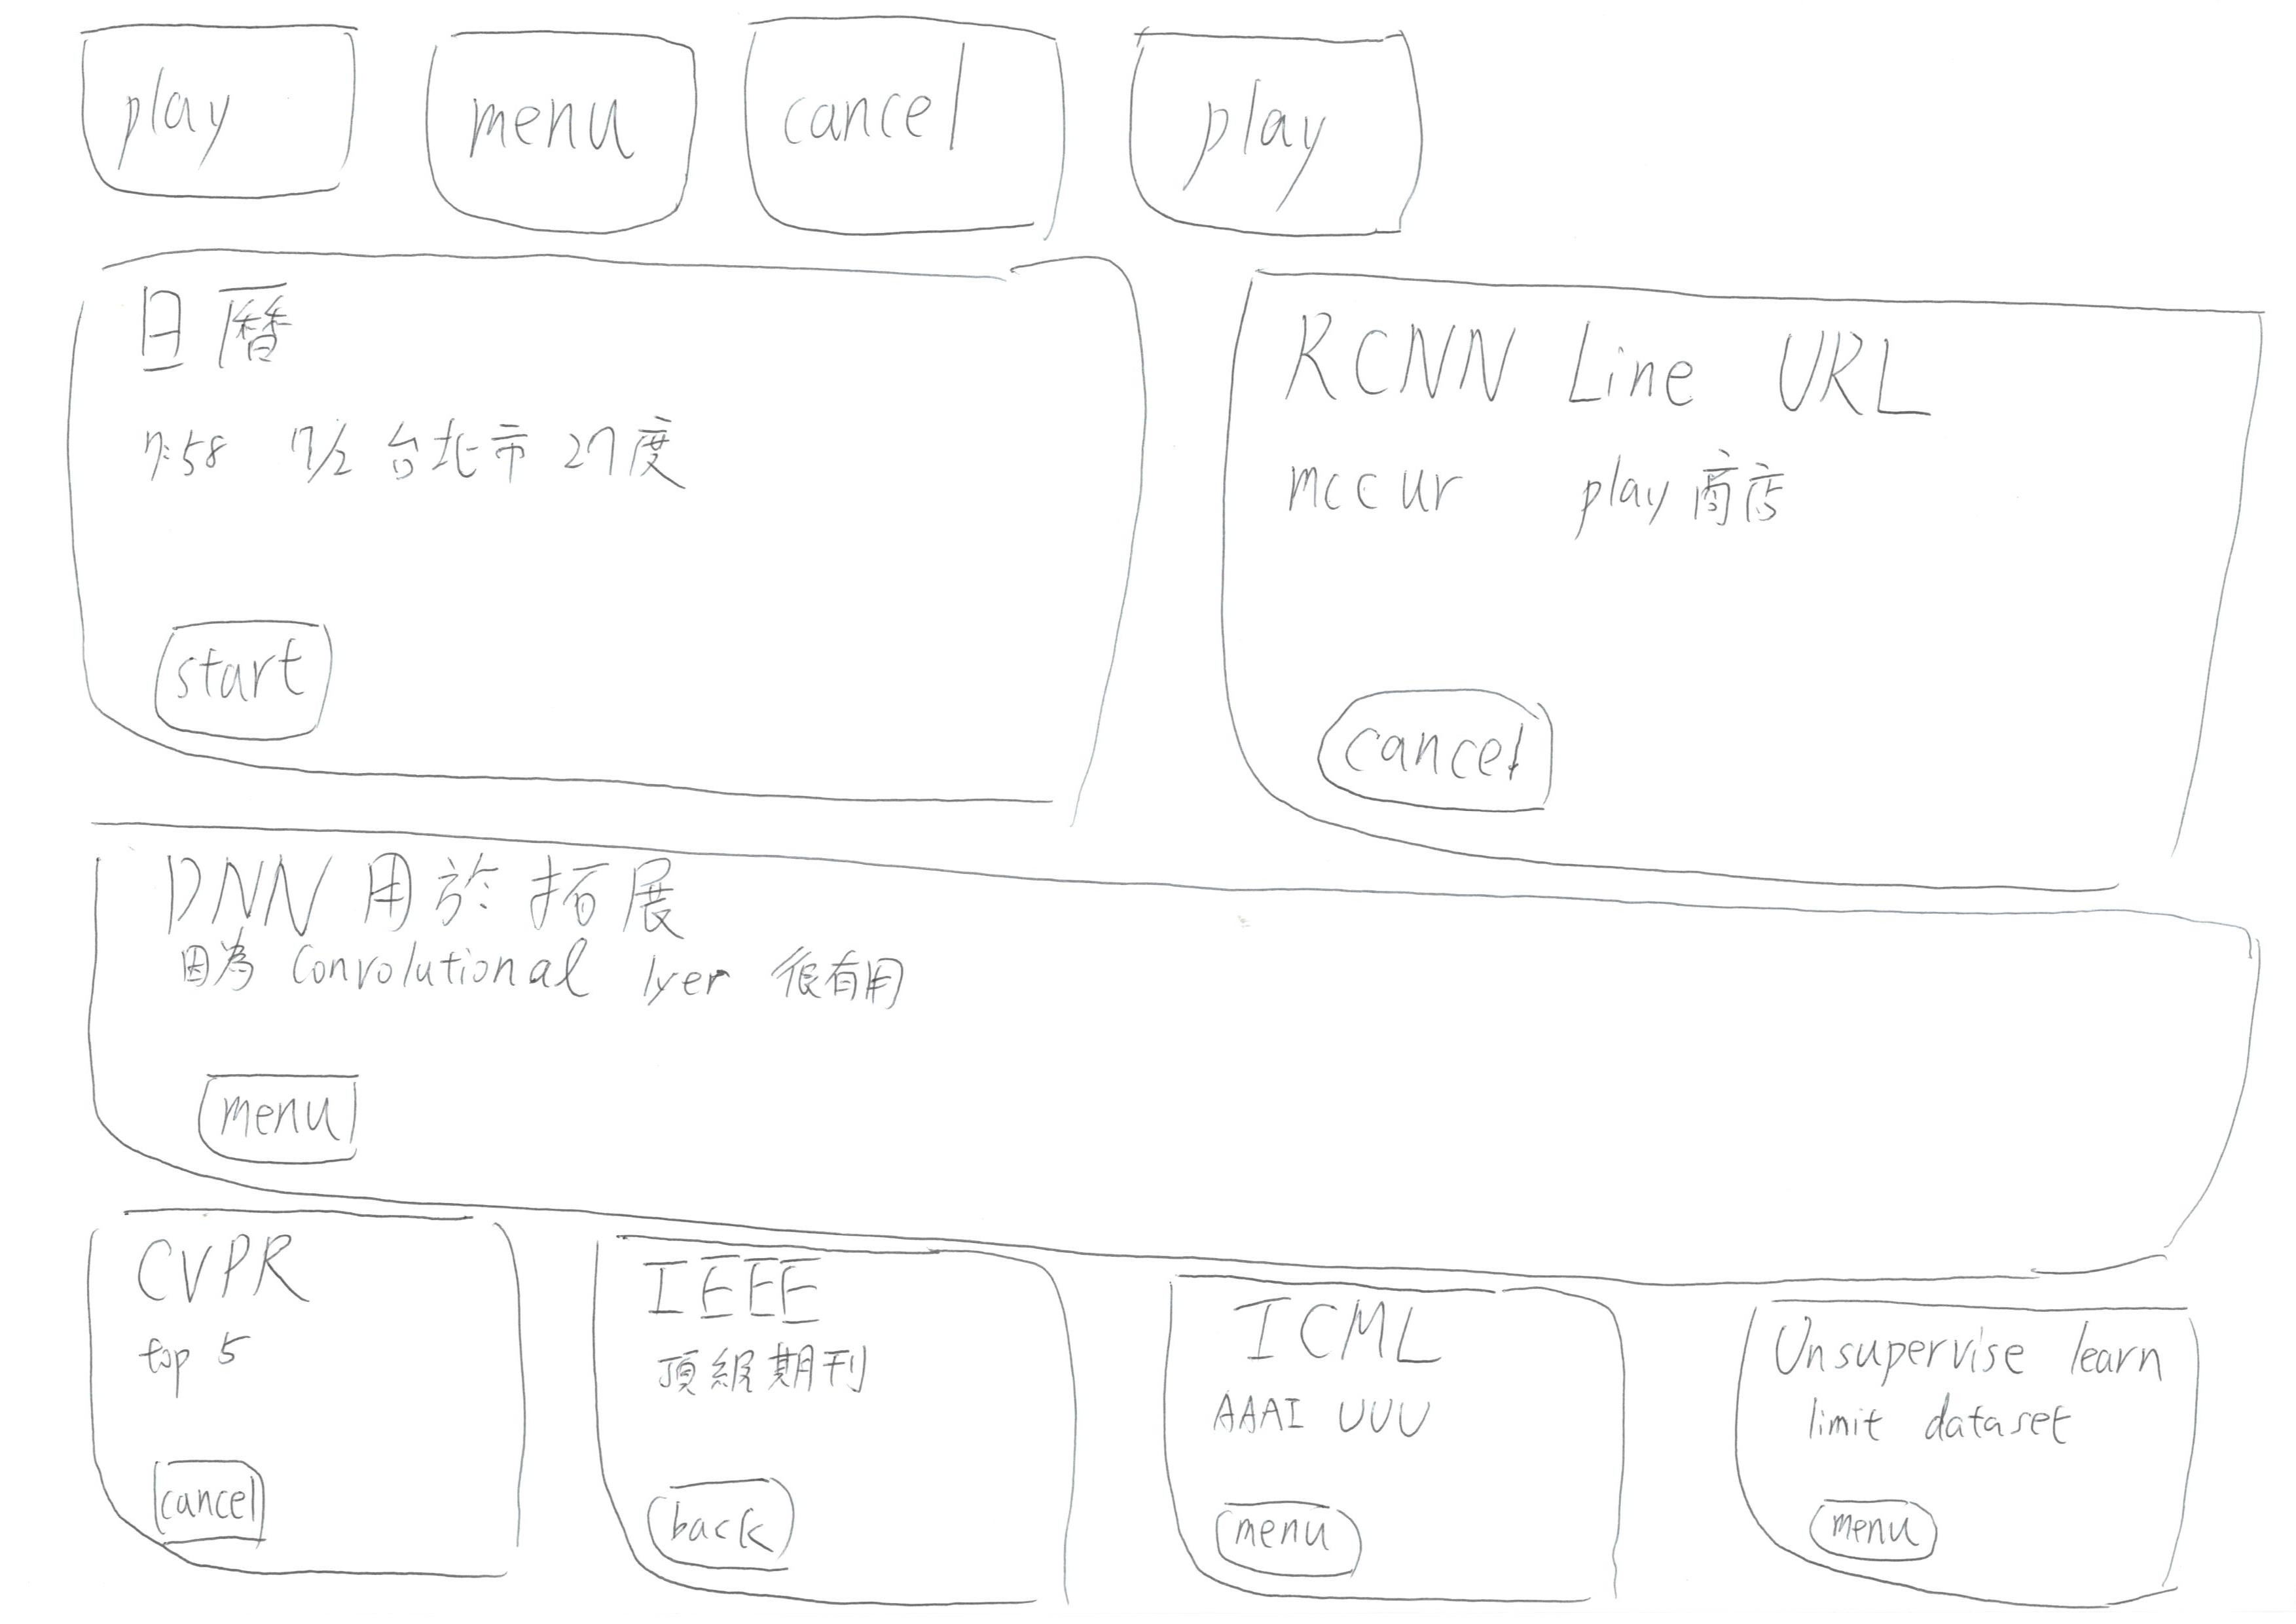back: (635, 1457, 816, 1596)
cancel: (742, 2, 1088, 264), (1285, 671, 1640, 861), (130, 1434, 292, 1571)
double: (1185, 257, 2296, 898), (44, 228, 1152, 838)
menu: (406, 9, 726, 244), (1190, 1490, 1398, 1615), (185, 1060, 364, 1176), (1797, 1487, 1944, 1580)
play: (1102, 9, 1486, 255), (56, 4, 383, 228)
quadruple: (39, 1181, 550, 1624), (582, 1181, 1094, 1624), (1136, 1181, 1647, 1624), (1704, 1248, 2236, 1624)
row: (33, 236, 2296, 893), (33, 826, 2289, 1299), (26, 1185, 2296, 1624), (21, 0, 2284, 279)
single: (21, 824, 2296, 1283)
small-title: (1287, 295, 1943, 446), (153, 838, 684, 942), (1767, 1311, 2183, 1406), (134, 274, 311, 394), (1224, 1294, 1450, 1371), (628, 1237, 817, 1325), (118, 1227, 311, 1313)
start: (142, 612, 369, 749)
text: (1268, 438, 1881, 571), (169, 933, 934, 1025), (155, 401, 705, 494), (1201, 1364, 1480, 1468), (1800, 1385, 2115, 1464), (650, 1336, 912, 1415), (118, 1325, 320, 1408)
